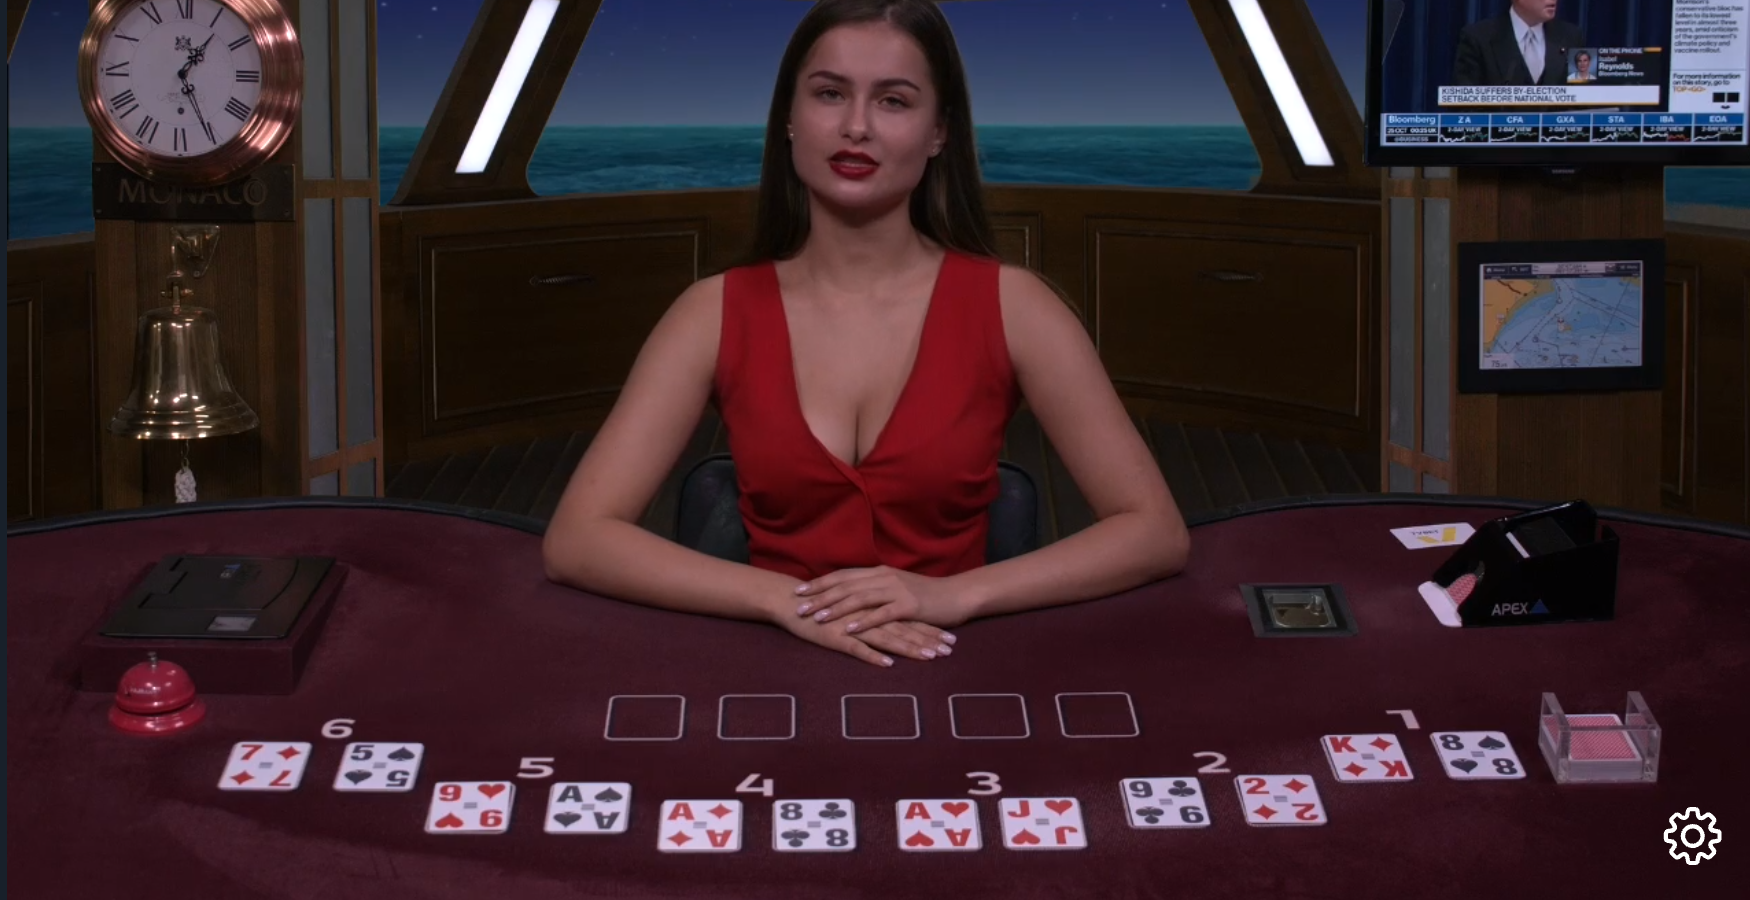2d: (1232, 768, 1333, 835)
5s: (328, 731, 423, 801)
7d: (212, 734, 317, 804)
8c: (767, 791, 865, 860)
8s: (1430, 727, 1533, 788)
9c: (1118, 771, 1219, 835)
9h: (425, 778, 520, 840)
asd: (653, 794, 750, 860)
ash: (890, 793, 985, 858)
ass: (545, 778, 635, 839)
jh: (997, 790, 1094, 856)
kd: (1319, 728, 1418, 790)
